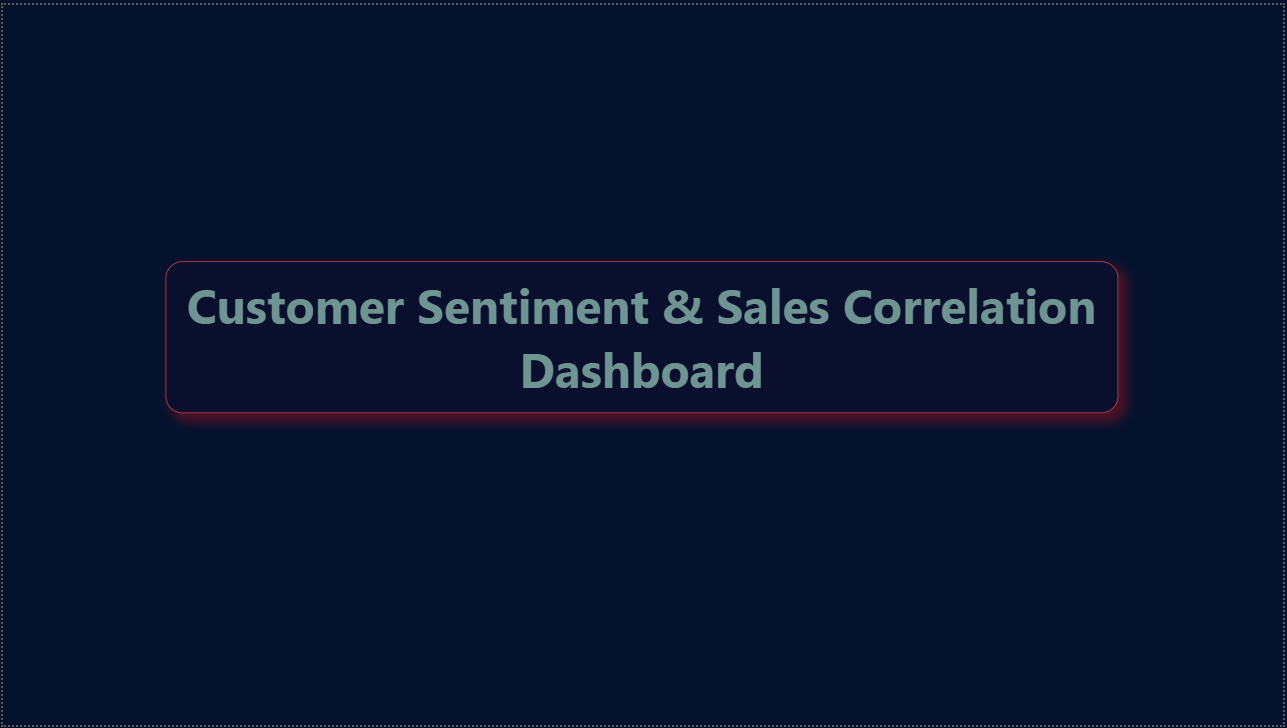

The page's visual inventory and layout, read from the dashboard file:
{"tool":"powerbi","page":{"name":"Home","canvas":[1280,720],"ordinal":0},"visuals":[{"type":"textbox","box":[162.6,256.8,952.6,151.6],"z":0}]}

Visuals, with their boxes in screenshot pixels (x1, y1, x2, y2), scaled from the page's 1280x720 canvas onto the 1287x728 screenshot:
textbox: (163, 260, 1121, 413)
